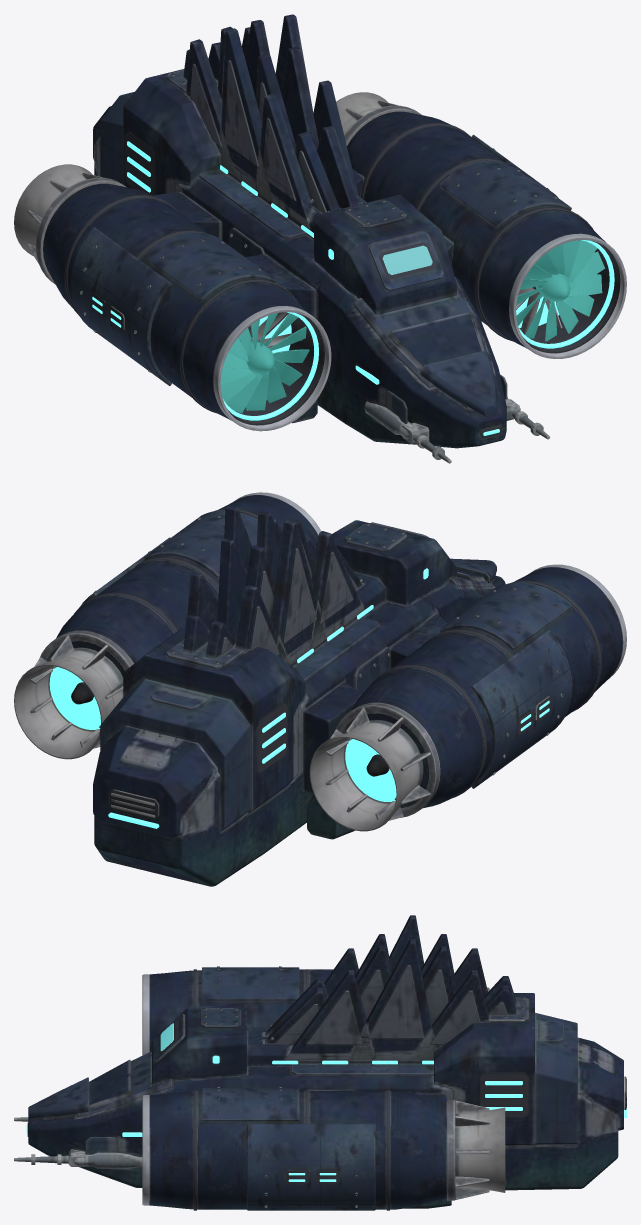
Rendered from leviathan.glb.
3 views of the same model, one above another, from view 1: azimuth 30°, elevation 25°; view 2: azimuth 150°, elevation 25°; view 3: azimuth 270°, elevation 25° (orthographic). The views are drawn at different scales.
Parts seen in each view (by area): view 1: leviathan_body, fan_L, fan_R, leviathan_emissive, leviathan_glass; view 2: leviathan_body, leviathan_emissive; view 3: leviathan_body, leviathan_emissive.
Part boxes in pixels (x1,y1,x2,y2): leviathan_body: [14, 14, 626, 463]; fan_L: [516, 240, 605, 341]; fan_R: [220, 313, 309, 413]; leviathan_emissive: [92, 141, 614, 435]; leviathan_glass: [383, 245, 432, 274]; leviathan_body: [14, 492, 626, 886]; leviathan_emissive: [49, 568, 549, 828]; leviathan_body: [14, 915, 626, 1210]; leviathan_emissive: [26, 1023, 626, 1181].
Size of the model in its own units: 3.48 by 2.21 by 5.15.
6 materials, 2 textured.
